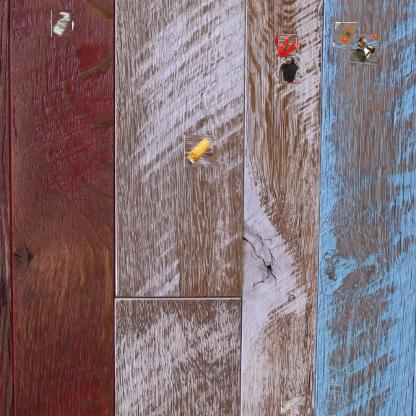dirty: (183, 136, 214, 167), (348, 35, 378, 65), (334, 23, 359, 49), (50, 11, 74, 36), (281, 394, 306, 414)
liquid: (278, 52, 300, 84), (276, 34, 298, 56)
